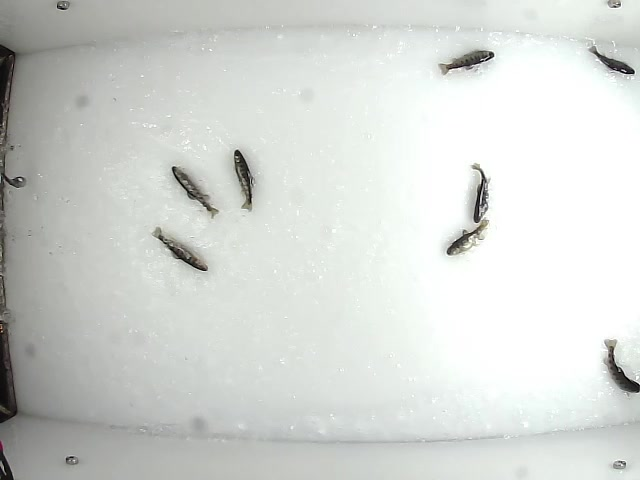fish: (150, 223, 212, 275), (168, 163, 222, 219), (602, 337, 640, 397), (444, 215, 492, 256), (230, 145, 258, 212), (437, 46, 496, 76), (585, 42, 638, 75), (469, 160, 490, 224)
